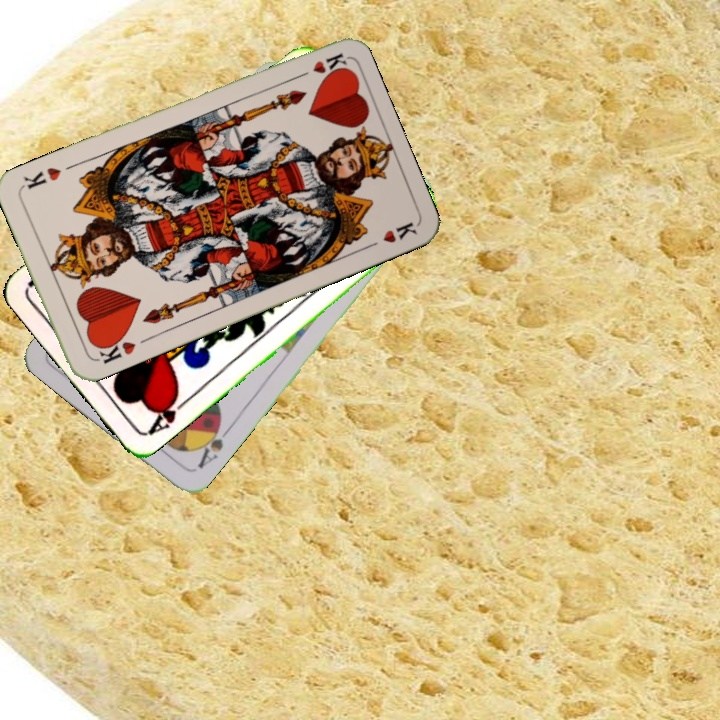HA: (144, 388, 193, 438)
HK: (289, 49, 347, 83), (92, 331, 138, 366)
SA: (192, 417, 233, 471)
